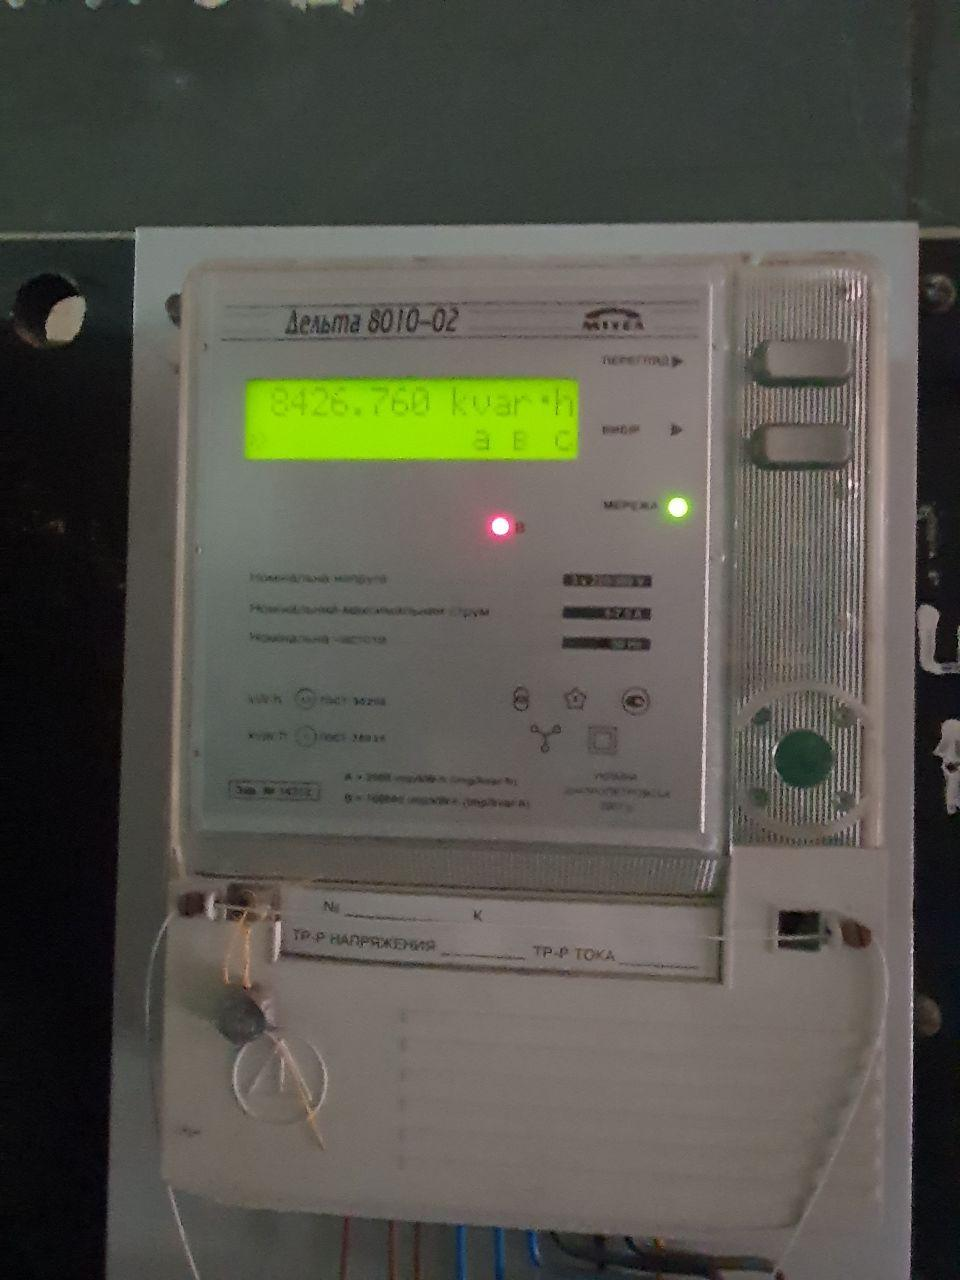counter: (160, 244, 916, 1280)
counter_screen: (239, 372, 586, 470)
